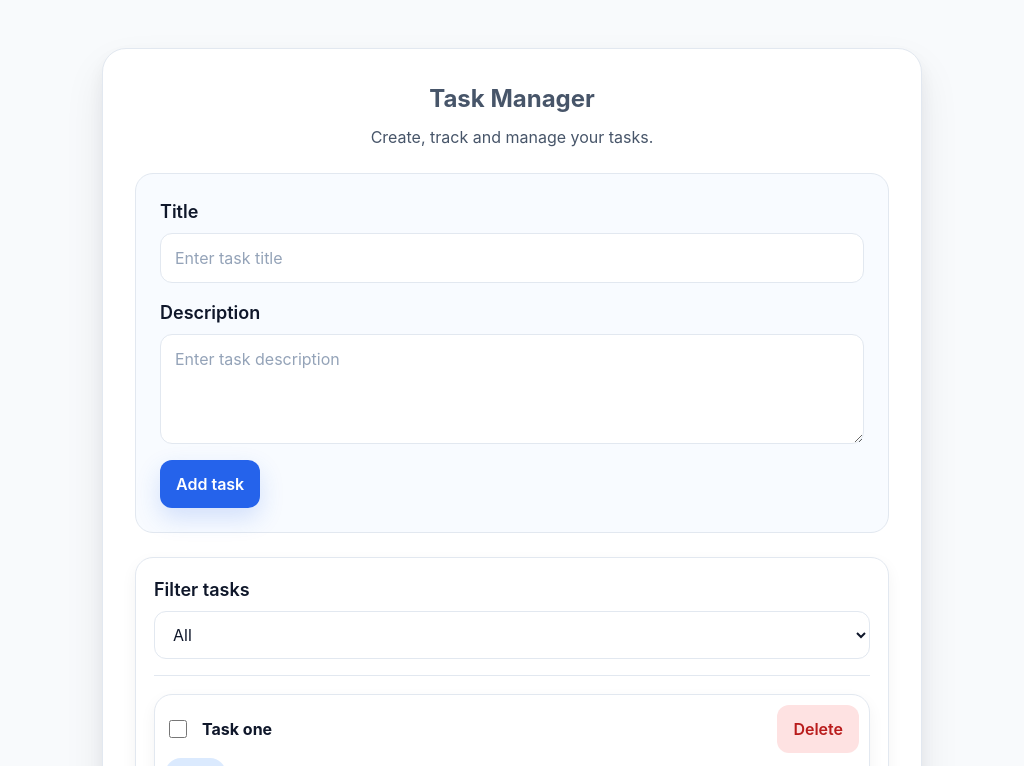
Scenario: HomePage › handleDelete › ska radera en task när delete-knappen klickas
Expected: the text "Task one" is shown, [202,717,272,741]
Click the button "Delete": {"x": 818, "y": 729} [777,705,859,753]
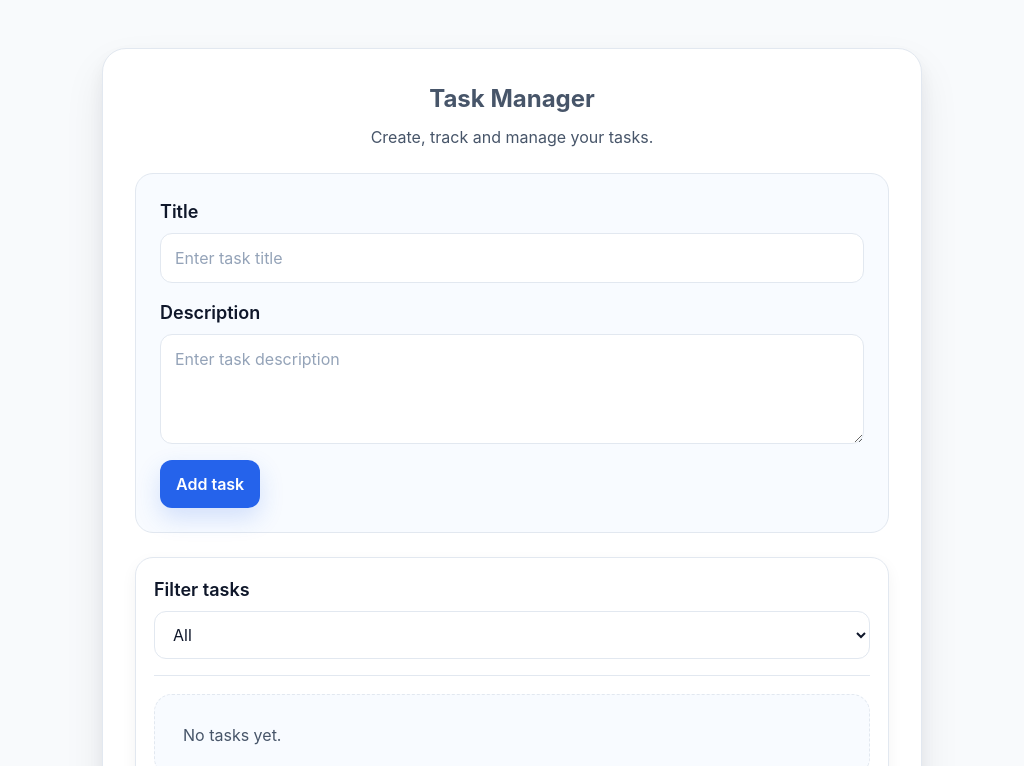
Result: the text "Task one" is gone
